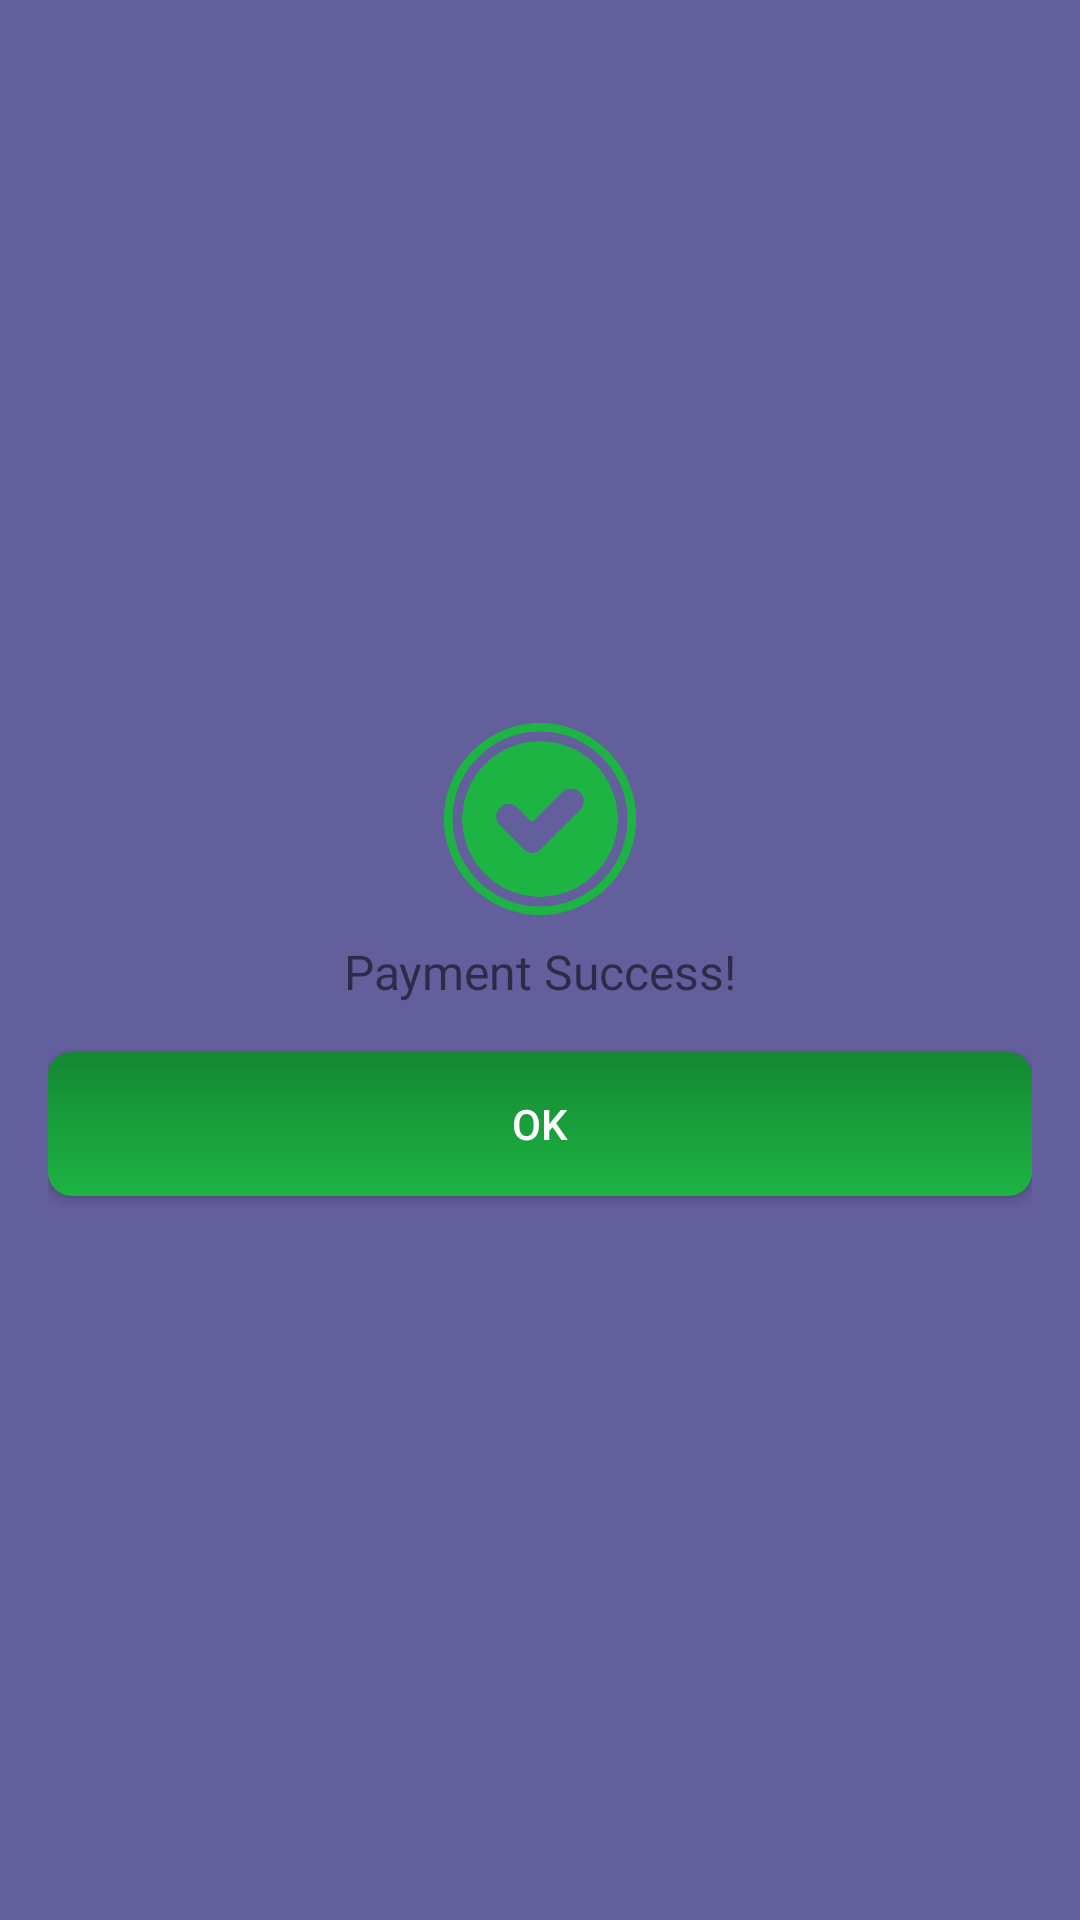

Icon click points for this 1080w x 1920h phone screenshot, format [x,y]:
check: [540,819]
